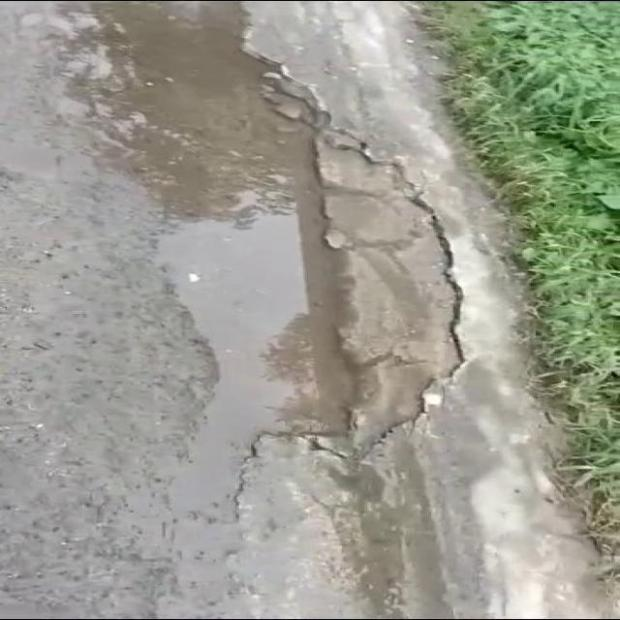lubang: (1, 3, 458, 616)
